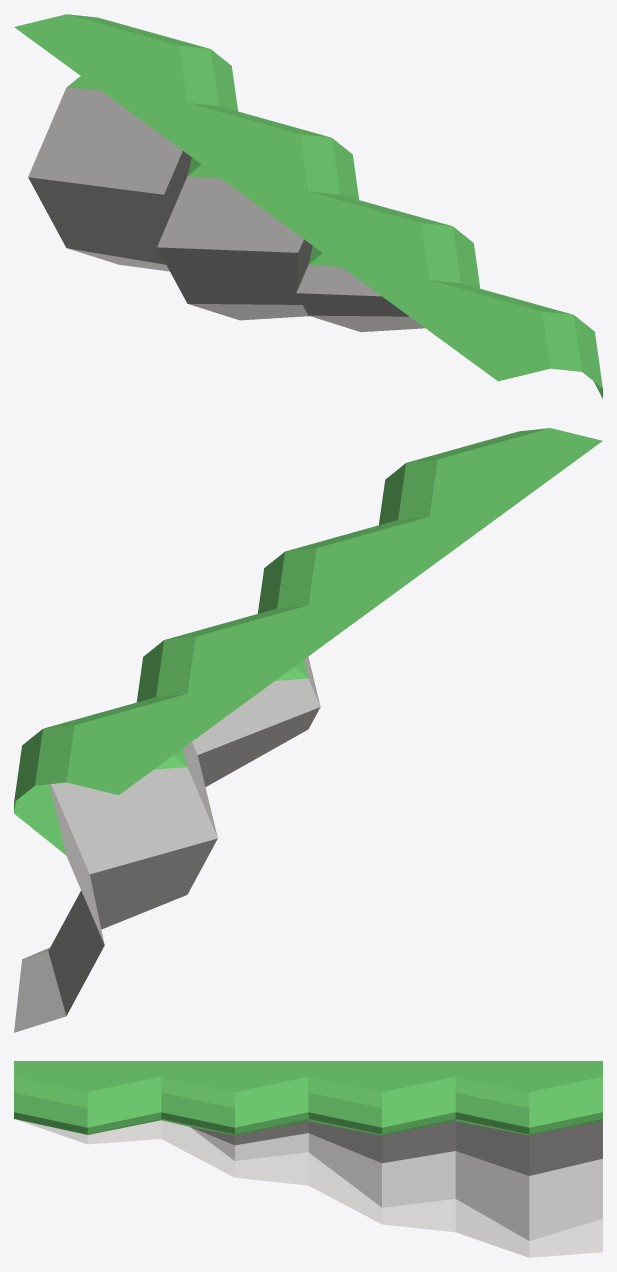
File: Cliff_Terrain_Hill_Base_Top_Joined_Gentle.glb
3 renders of one model, top to bottom at view 1: azimuth 30°, elevation 25°; view 2: azimuth 150°, elevation 25°; view 3: azimuth 270°, elevation 25°, orthographic. The views are drawn at different scales.
Parts seen in each view (by area): view 1: Cliff_Terrain_Hill_Base_Top_Joined_Gentle; view 2: Cliff_Terrain_Hill_Base_Top_Joined_Gentle; view 3: Cliff_Terrain_Hill_Base_Top_Joined_Gentle.
Part boxes in pixels (x1,y1,x2,y2): Cliff_Terrain_Hill_Base_Top_Joined_Gentle: (14, 14, 602, 398); Cliff_Terrain_Hill_Base_Top_Joined_Gentle: (14, 428, 602, 1032); Cliff_Terrain_Hill_Base_Top_Joined_Gentle: (14, 1061, 602, 1257).
Bounding box in the file's own units: 0.3975 × 0.636 × 2.12.
